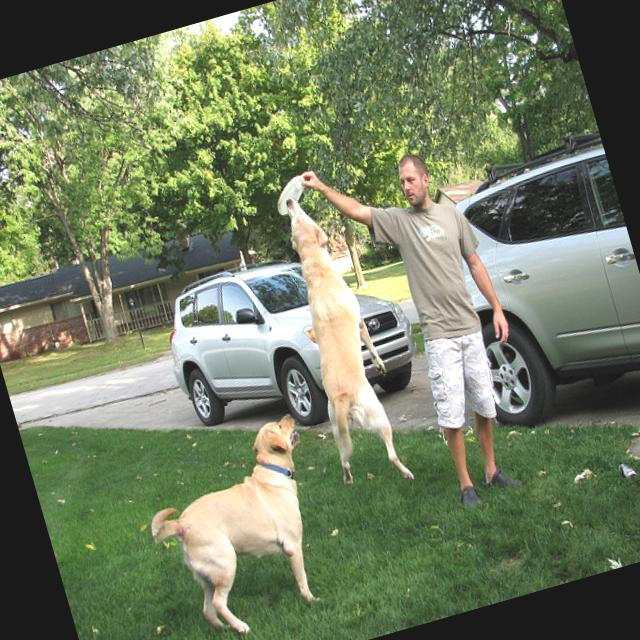Vehicle: (428, 128, 640, 432), (151, 228, 429, 459)
